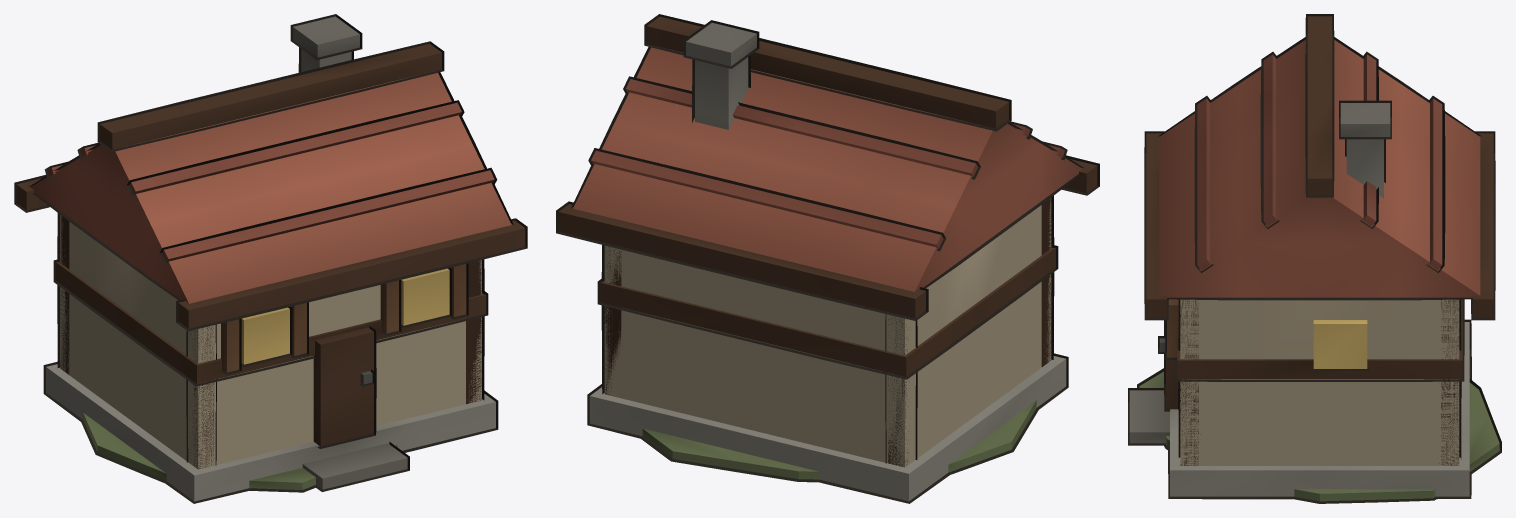
Rendered from maison.glb.
3 renders of one model, left to right at view 1: azimuth 30°, elevation 25°; view 2: azimuth 150°, elevation 25°; view 3: azimuth 270°, elevation 25°, orthographic. The views are drawn at different scales.
Parts seen in each view (by area): view 1: maison, maison_outline; view 2: maison, maison_outline; view 3: maison, maison_outline.
Boxes of the visible parts, x1,y1,x2,y2 form: maison: [16, 16, 525, 501]; maison_outline: [14, 14, 527, 503]; maison: [558, 16, 1097, 501]; maison_outline: [556, 14, 1099, 503]; maison: [1129, 16, 1499, 501]; maison_outline: [1128, 14, 1501, 503].
Bounding box in the file's own units: 1.95 × 1.88 × 1.81.
